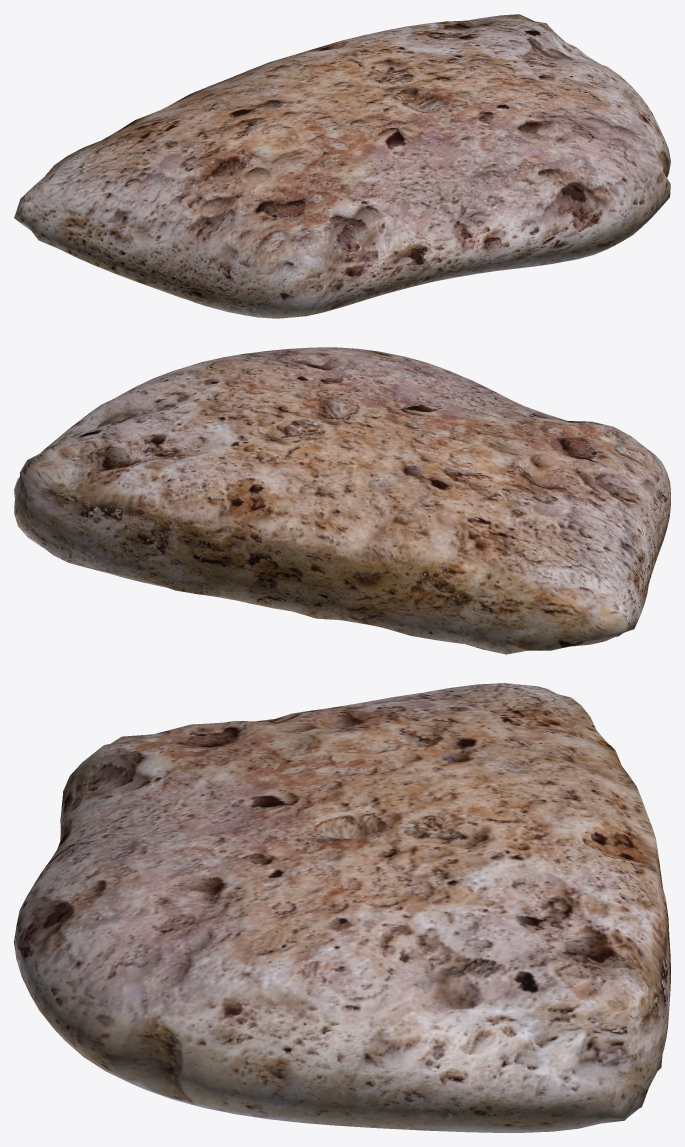
File: BeachRockLarge.fbx
3 renders of one model, top to bottom at view 1: azimuth 30°, elevation 25°; view 2: azimuth 150°, elevation 25°; view 3: azimuth 270°, elevation 25°, orthographic. The views are drawn at different scales.
Visible parts, largest first — view 1: BeachRockLarge_LOD0; view 2: BeachRockLarge_LOD0; view 3: BeachRockLarge_LOD0.
Boxes of the visible parts, x1,y1,x2,y2 form: BeachRockLarge_LOD0: [14, 14, 670, 318]; BeachRockLarge_LOD0: [14, 347, 670, 654]; BeachRockLarge_LOD0: [14, 683, 670, 1132].
Size of what is drawn, in the model's own units: 60.91 by 14 by 41.28.
